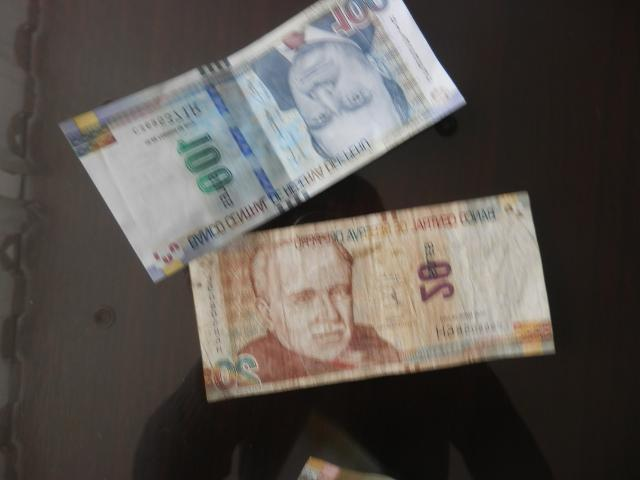B100: (60, 1, 465, 192)
B20: (191, 191, 556, 401)
